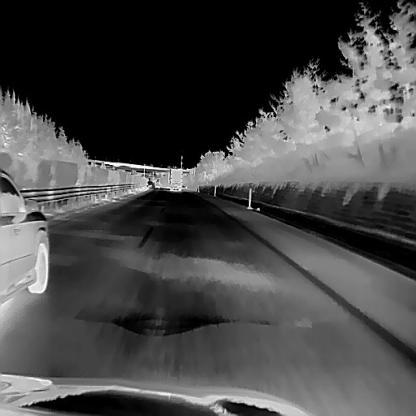car: (0, 168, 48, 302), (167, 168, 183, 190)
